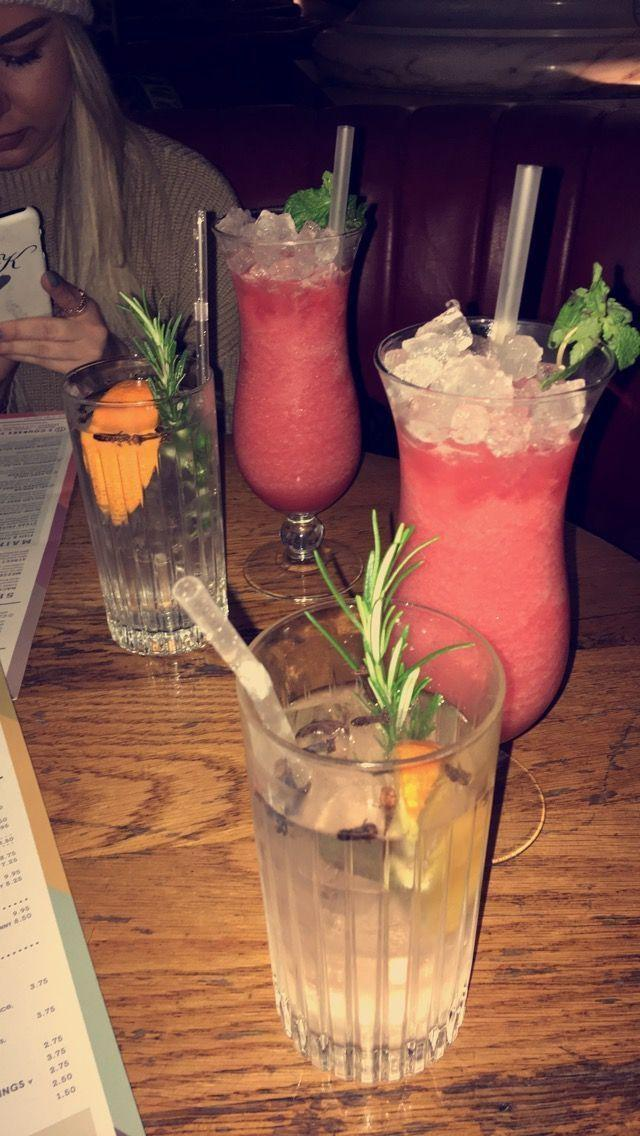glass-normal: (227, 592, 510, 1083), (59, 352, 228, 654)
glass-wine: (370, 310, 618, 815), (208, 200, 377, 601)
